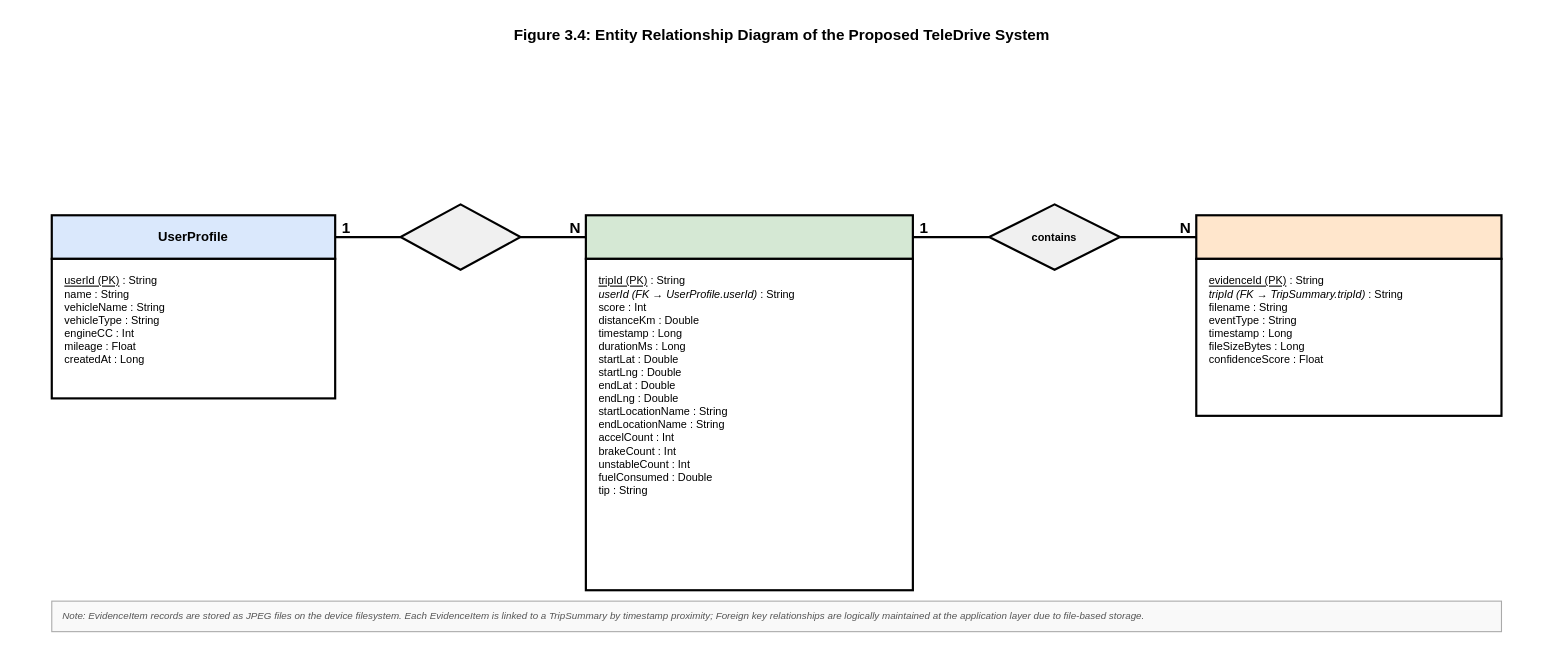
This 1563x651 diagram has some shape labels left out. The shapes that lost their labels are listed below. From the top down, each one's centre as x and y in pixels, then its label:
At point (460, 236): "has".
At point (748, 236): "TripSummary".
At point (1348, 236): "EvidenceItem".
